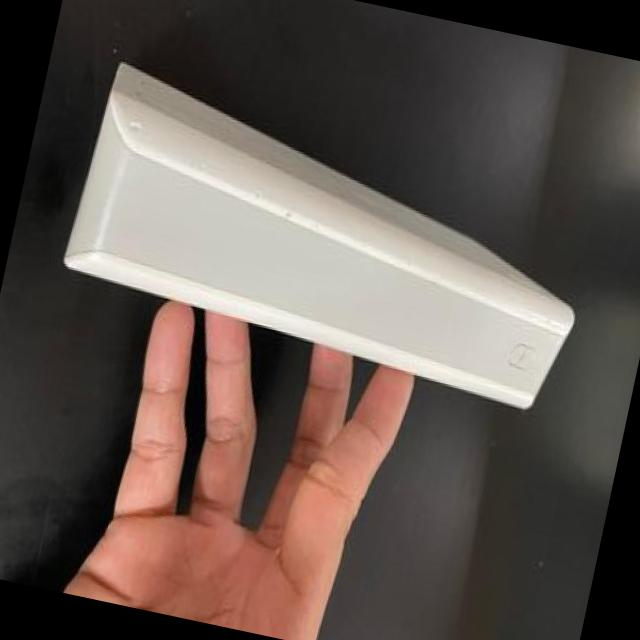power_bank: (44, 49, 616, 426)
